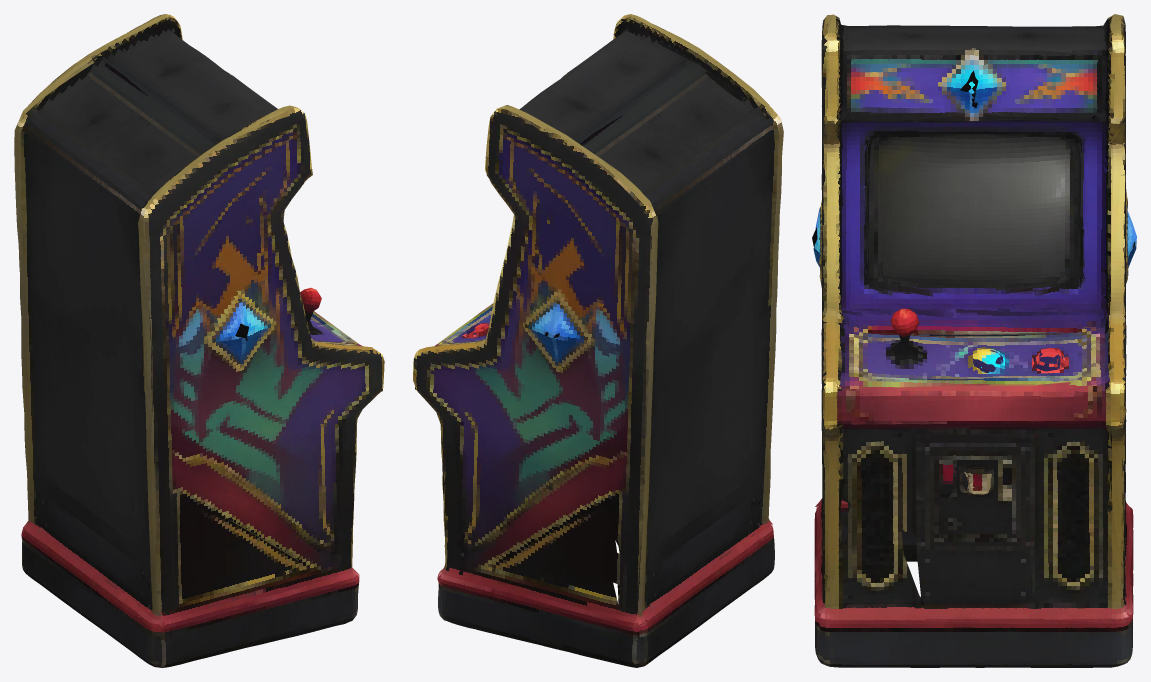
Rendered from Arcade_Machine_QuadRetro.glb.
3 renders of one model, left to right at view 1: azimuth 30°, elevation 25°; view 2: azimuth 150°, elevation 25°; view 3: azimuth 270°, elevation 25°, orthographic. The views are drawn at different scales.
Visible parts, largest first — view 1: Arcade_Machine_QuadRemesh; view 2: Arcade_Machine_QuadRemesh; view 3: Arcade_Machine_QuadRemesh.
Boxes of the visible parts, x1,y1,x2,y2 form: Arcade_Machine_QuadRemesh: (14, 14, 384, 667); Arcade_Machine_QuadRemesh: (413, 14, 783, 667); Arcade_Machine_QuadRemesh: (812, 14, 1136, 667).
Bounding box in the file's own units: 0.9558 × 2 × 0.9732.
1 material, 1 textured.
